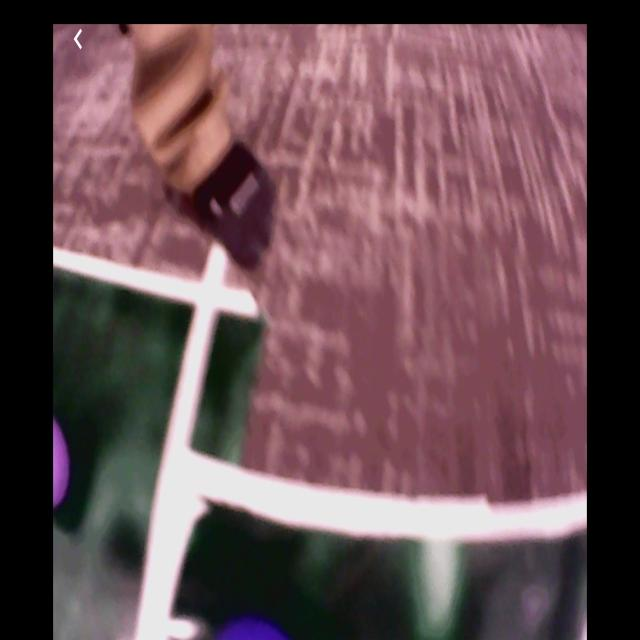ball: (214, 618, 294, 640), (54, 414, 71, 505)
